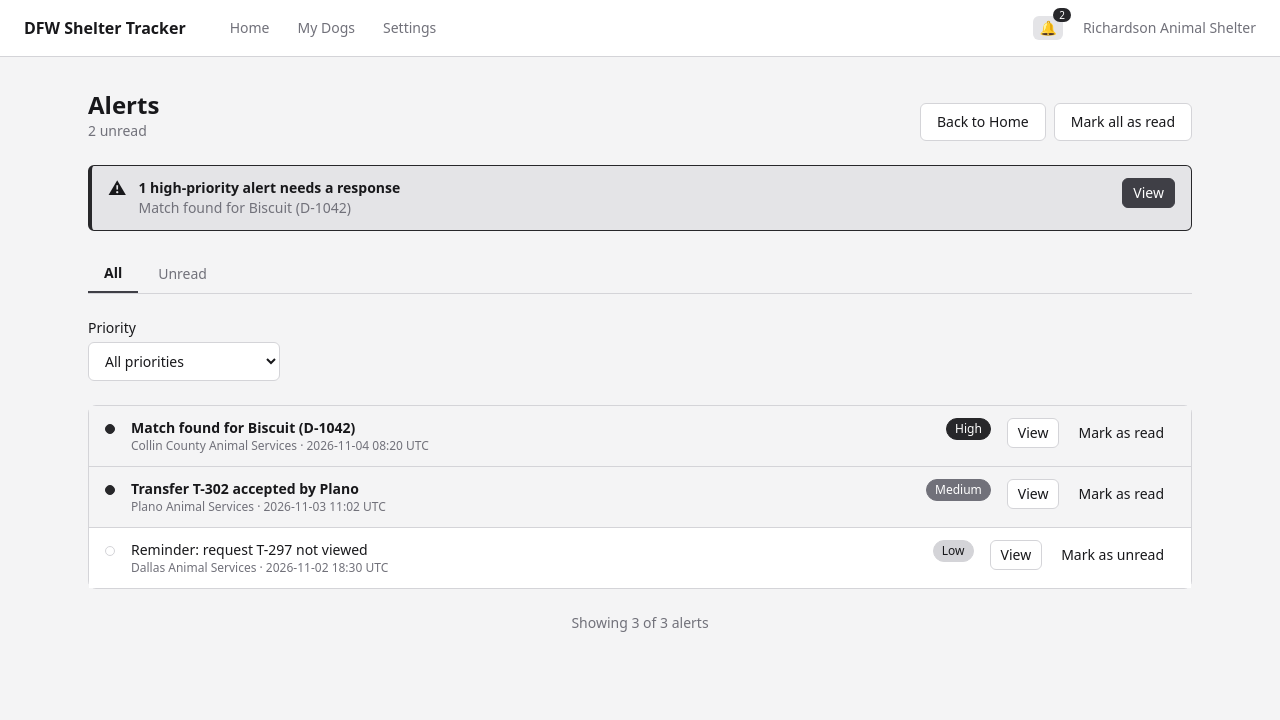
Test case: UC-14 View Alerts Inbox (screen) › TC-14-02 (screen) View on A-90: marked read, count 1, dog, Collin contact and the request outcome; Close and Escape close it
Click the button with aria-label "View Match found for Biscuit (D-1042)".
click(1033, 433)  # box [1007,418,1059,448]
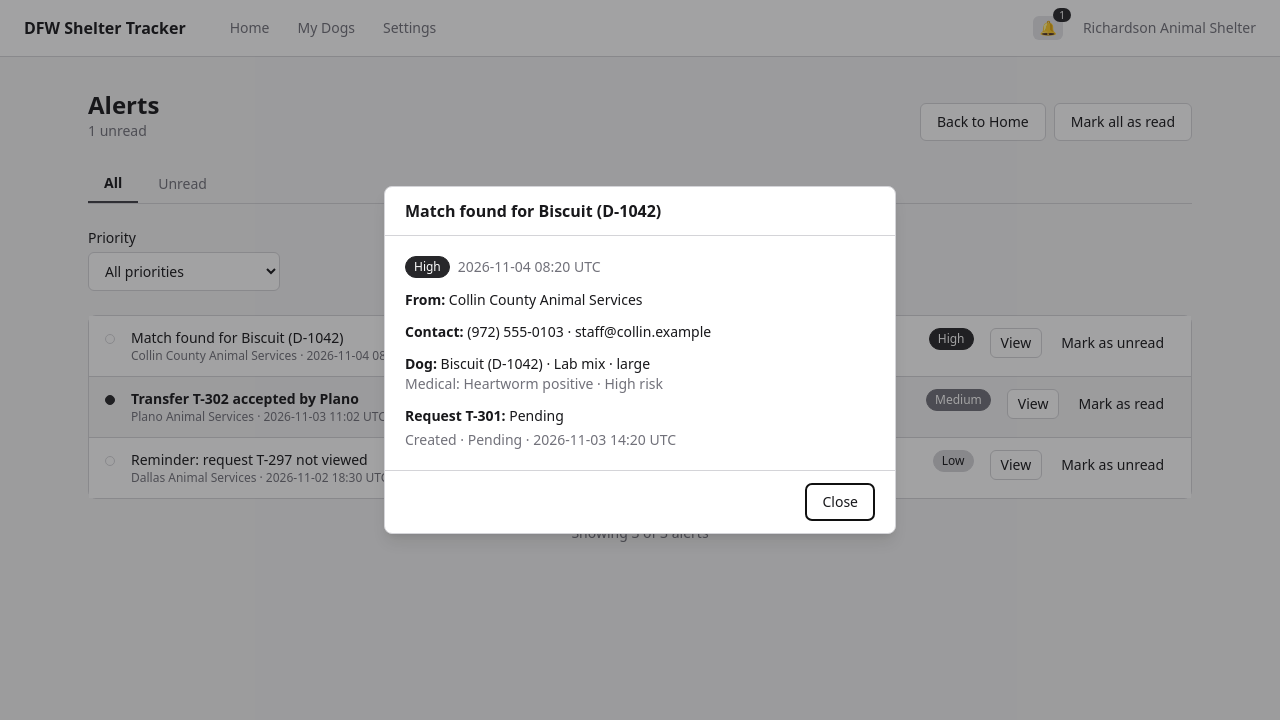
Check: the text "From: Collin County Animal Services" is shown, box [405,290,642,309]
Check: the text "Contact: (972) 555-0103 · staff@collin.example" is shown, box [405,322,711,341]
Check: the text "Biscuit (D-1042) · Lab mix · large" is shown, box [405,354,663,393]
Click the button "Close".
click(840, 502)  # box [806,483,875,521]
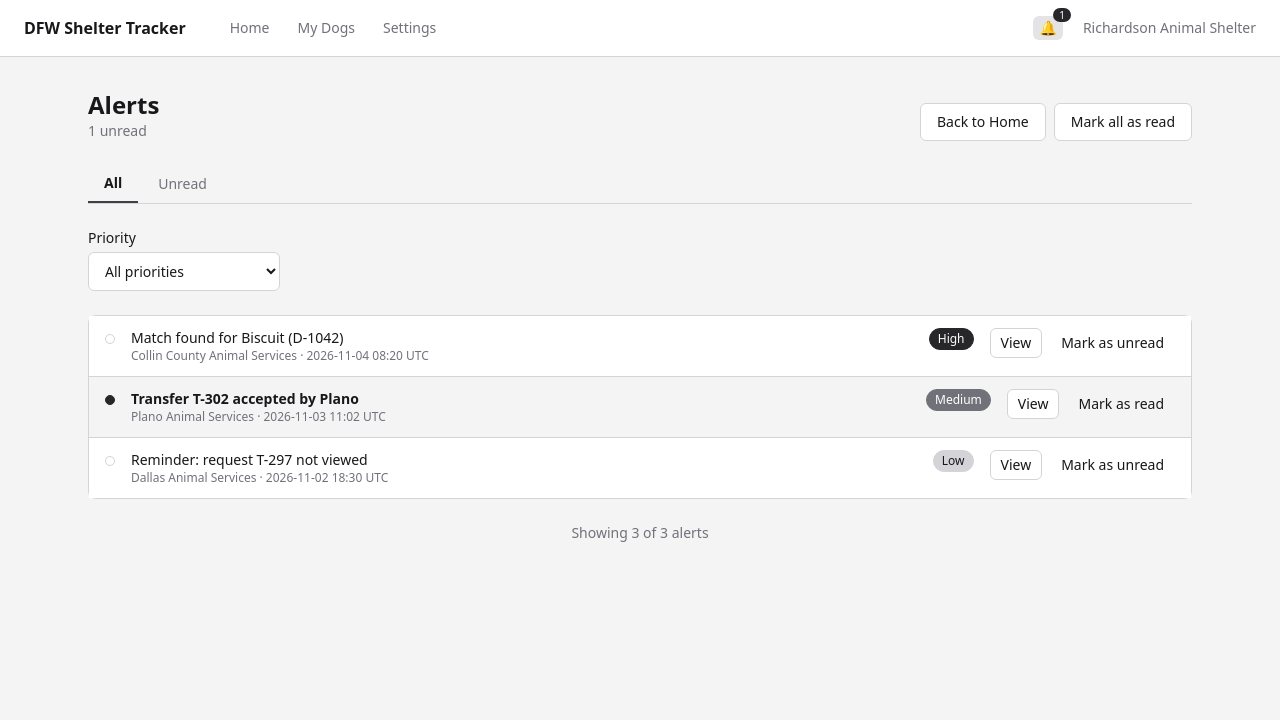
Check: the dialog is gone
Click the button with aria-label "View Transfer T-302 accepted by Plano".
click(1033, 404)  # box [1007,389,1059,419]
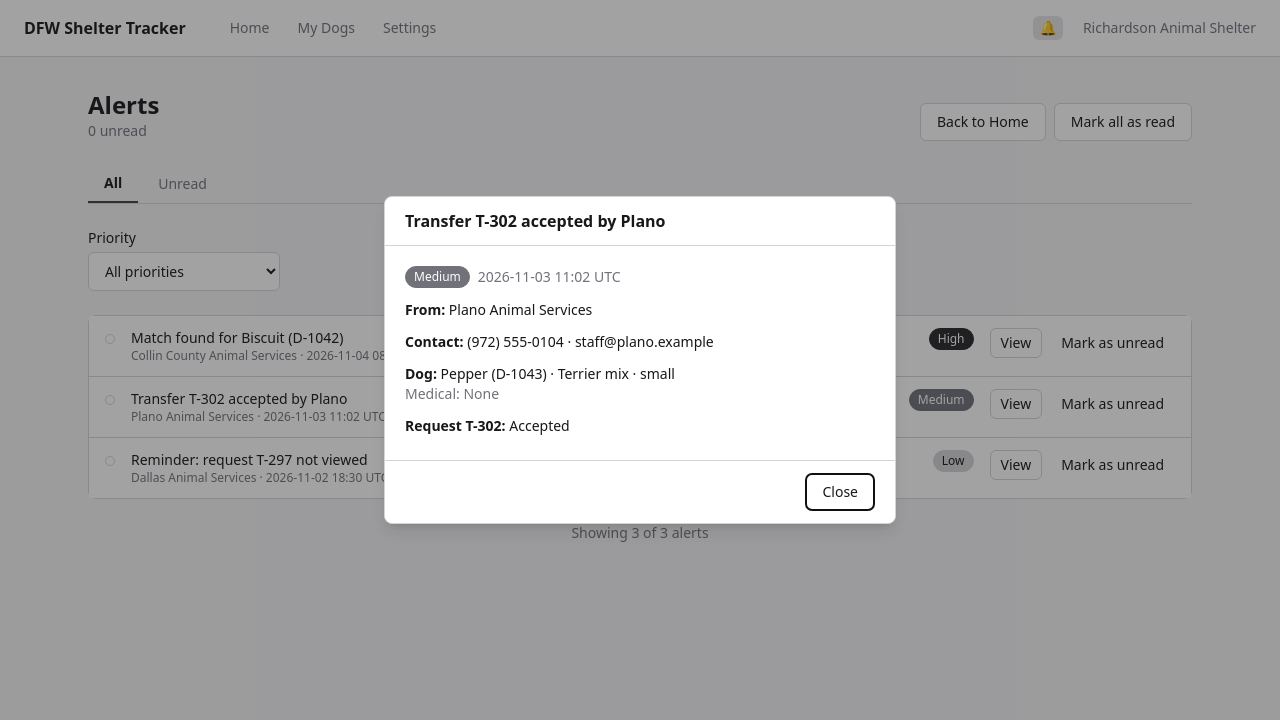
Check: the dialog is shown
Press Escape
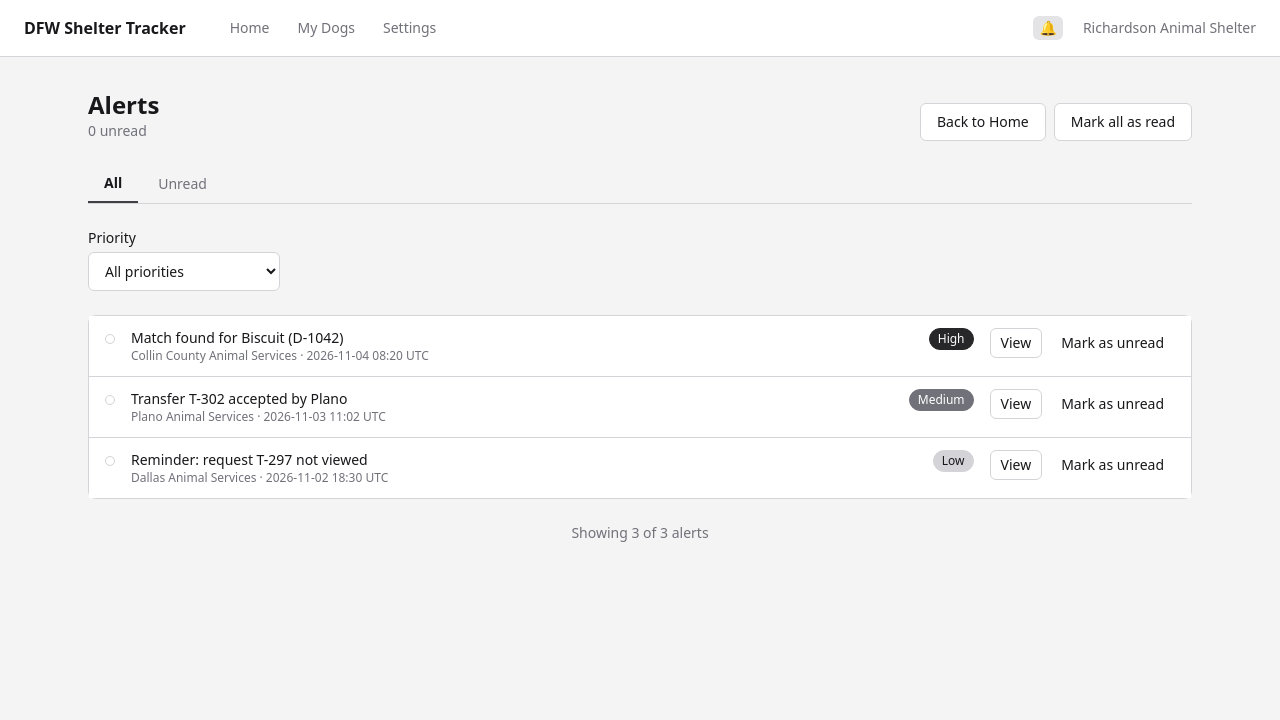
Check: the dialog is gone
